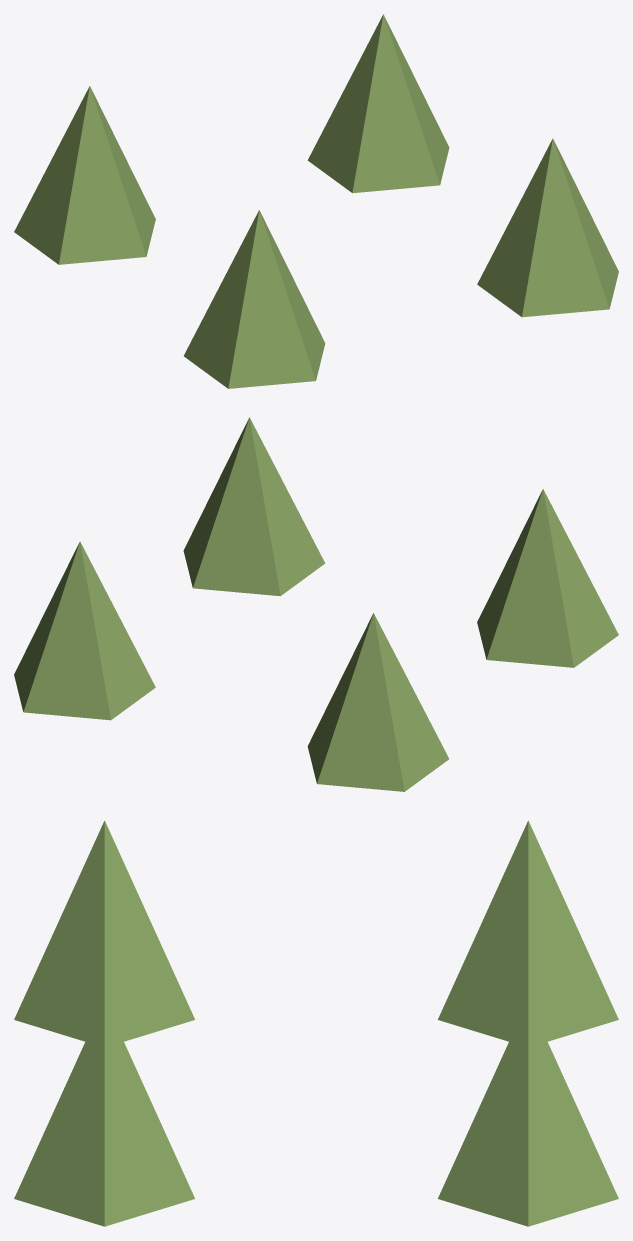
The model's file is coffee_growing.glb.
3 renders of one model, top to bottom at view 1: azimuth 30°, elevation 25°; view 2: azimuth 150°, elevation 25°; view 3: azimuth 270°, elevation 25°, orthographic. The views are drawn at different scales.
Bounding box in the file's own units: 1.13 × 0.39 × 1.14.
